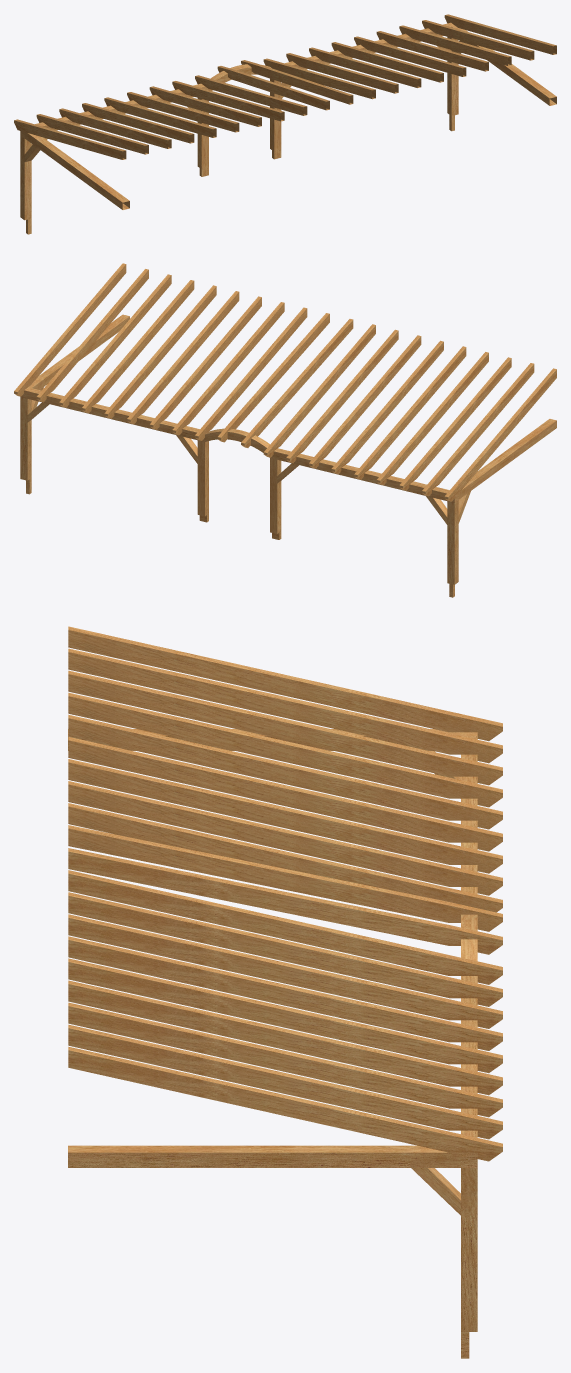
The model's file is Veranda.fbx.
3 views of the same model, one above another, from view 1: azimuth 30°, elevation 25°; view 2: azimuth 150°, elevation 25°; view 3: azimuth 270°, elevation 25° (orthographic). The views are drawn at different scales.
Visible parts, largest first — view 1: Veranda; view 2: Veranda; view 3: Veranda.
Boxes of the visible parts, <box> form: Veranda: <box>14,14,556,234</box>; Veranda: <box>14,263,556,597</box>; Veranda: <box>68,626,502,1358</box>.
Bounding box in the file's own units: 120000 × 52064 × 41195.
